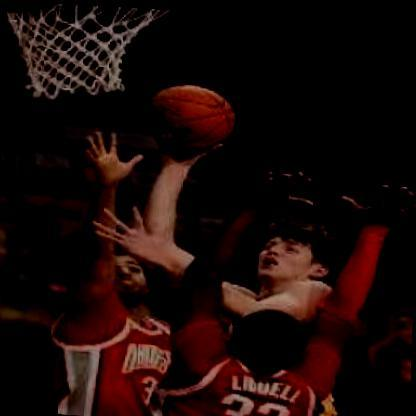basketball: (142, 75, 240, 155)
